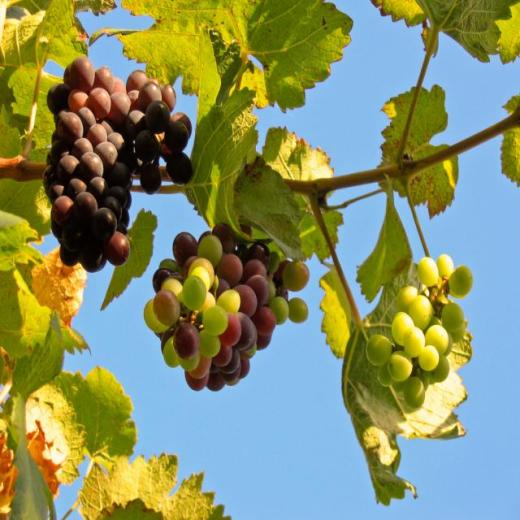Orange: (43, 56, 193, 273), (143, 223, 310, 392), (366, 252, 474, 411)
